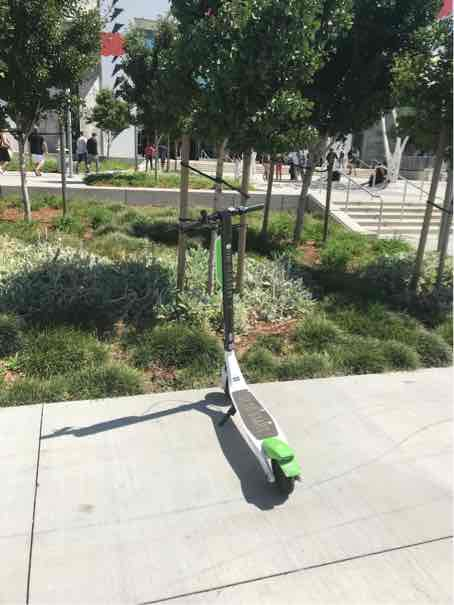scooter: (157, 203, 315, 511)
